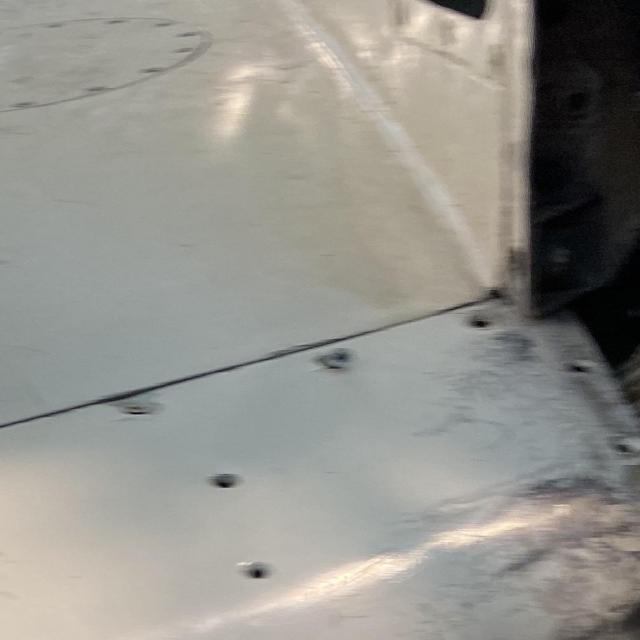Missing-head: (564, 351, 598, 378), (462, 311, 501, 332), (239, 559, 274, 579), (209, 470, 244, 488)
Scratch: (472, 477, 639, 640)
